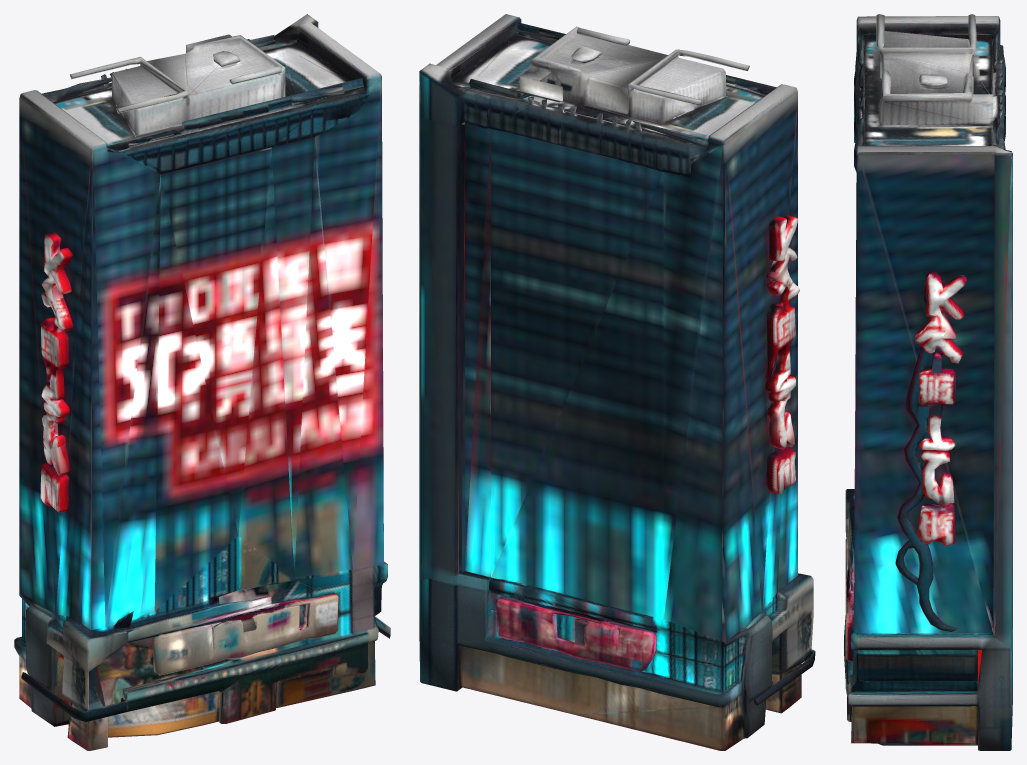
The model's file is shopping_2.glb.
The picture shows the model from 3 angles, left to right: view 1: azimuth 30°, elevation 25°; view 2: azimuth 150°, elevation 25°; view 3: azimuth 270°, elevation 25°; orthographic projection. The views are drawn at different scales.
Bounding box in the file's own units: 1.03 × 1.91 × 0.4736.
Materials: 1 (1 with a texture image).
